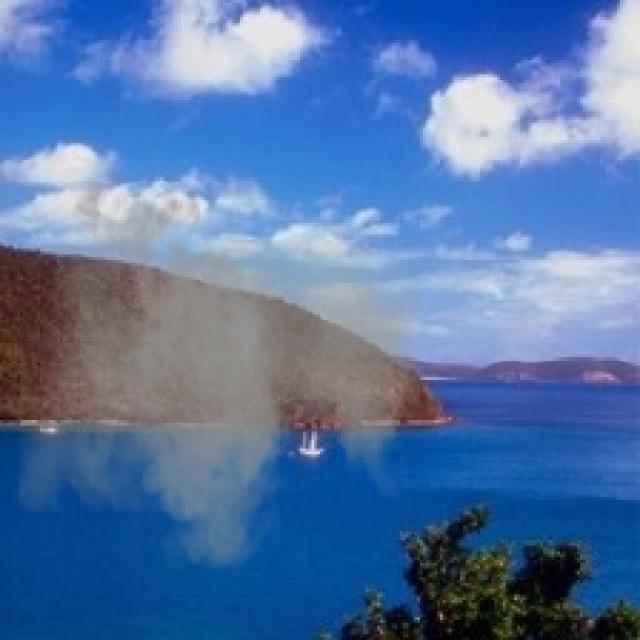smoke: (17, 165, 426, 586)
